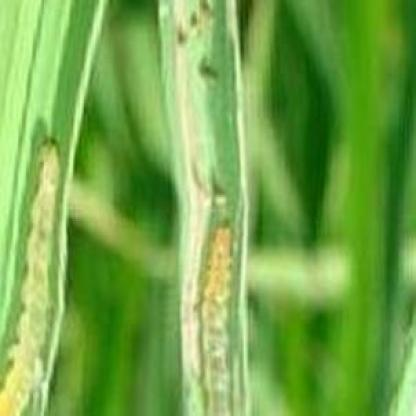leaf-folder: (14, 136, 76, 416), (180, 206, 252, 416)
